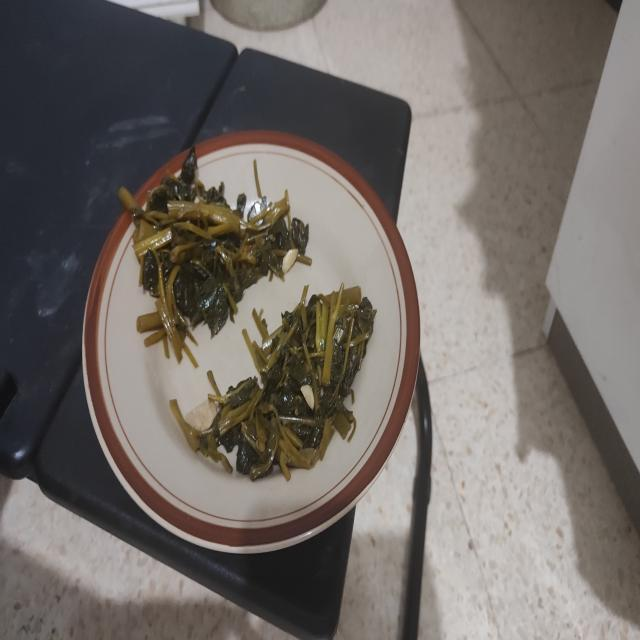tumis_kangkung: (170, 284, 377, 481), (133, 147, 311, 337)
